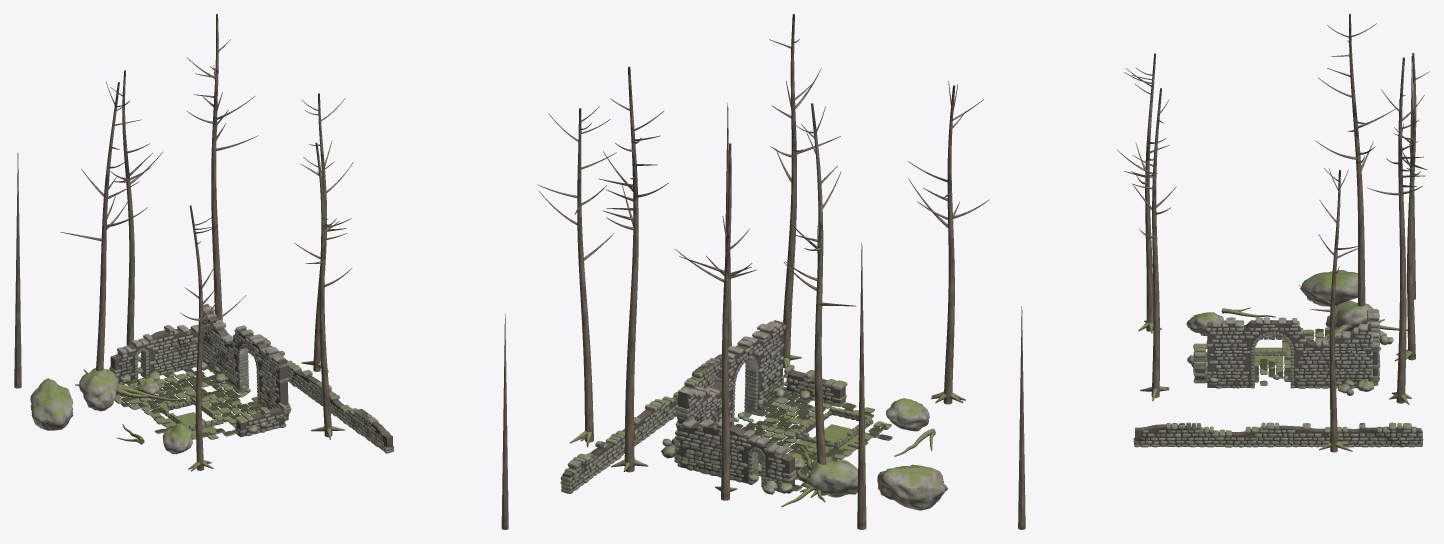
File: felsmulde-bauten.glb
The picture shows the model from 3 angles, left to right: view 1: azimuth 30°, elevation 25°; view 2: azimuth 150°, elevation 25°; view 3: azimuth 270°, elevation 25°; orthographic projection. The views are drawn at different scales.
Parts seen in each view (by area): view 1: Moosbloecke, MauerA, Hof, MauerB, Held1_Holz, Held0_Holz, Stuetzmauer, Held2_Holz, Held3_Holz, Held5_Holz, MauerA_Kern, Held4_Holz (+8 smaller); view 2: Moosbloecke, MauerA, Hof, MauerB, Held1_Holz, Stuetzmauer, Held0_Holz, Held4_Holz, Held5_Holz, Held3_Holz, Held2_Holz, MauerB_Kern (+9 smaller); view 3: MauerA, Stuetzmauer, MauerA_Kern, Moosbloecke, Held1_Holz, Stuetzmauer_Kern, Held2_Holz, Held0_Holz, Held4_Holz, Held5_Holz, Held3_Holz, Hof (+4 smaller).
Part boxes in pixels (x1,y1,x2,y2): Moosbloecke: [30, 368, 192, 454]; MauerA: [202, 306, 290, 415]; Hof: [114, 364, 285, 439]; MauerB: [109, 324, 203, 384]; Held1_Holz: [187, 14, 258, 320]; Held0_Holz: [60, 81, 147, 370]; Stuetzmauer: [248, 334, 394, 453]; Held2_Holz: [294, 142, 351, 439]; Held3_Holz: [180, 205, 246, 471]; Held5_Holz: [110, 70, 162, 361]; MauerA_Kern: [203, 303, 288, 420]; Held4_Holz: [300, 93, 353, 372]; Moosbloecke: [787, 398, 947, 510]; MauerA: [674, 321, 786, 462]; Hof: [734, 387, 892, 491]; MauerB: [676, 419, 796, 492]; Held1_Holz: [598, 66, 668, 472]; Stuetzmauer: [560, 358, 720, 493]; Held0_Holz: [784, 103, 855, 497]; Held4_Holz: [537, 106, 616, 447]; Held5_Holz: [675, 143, 756, 500]; Held3_Holz: [908, 81, 989, 404]; Held2_Holz: [769, 14, 840, 368]; MauerB_Kern: [679, 423, 794, 493]; MauerA: [1206, 317, 1372, 388]; Stuetzmauer: [1133, 422, 1423, 447]; MauerA_Kern: [1207, 320, 1371, 387]; Moosbloecke: [1186, 270, 1373, 339]; Held1_Holz: [1367, 57, 1425, 404]; Stuetzmauer_Kern: [1135, 424, 1421, 446]; Held2_Holz: [1117, 88, 1176, 401]; Held0_Holz: [1315, 14, 1395, 306]; Held4_Holz: [1299, 168, 1363, 452]; Held5_Holz: [1393, 53, 1429, 361]; Held3_Holz: [1124, 53, 1169, 333]; Hof: [1200, 327, 1337, 386].
Size of the model in its own units: 35.18 by 41.4 by 36.95.
21 materials, 21 textured.
